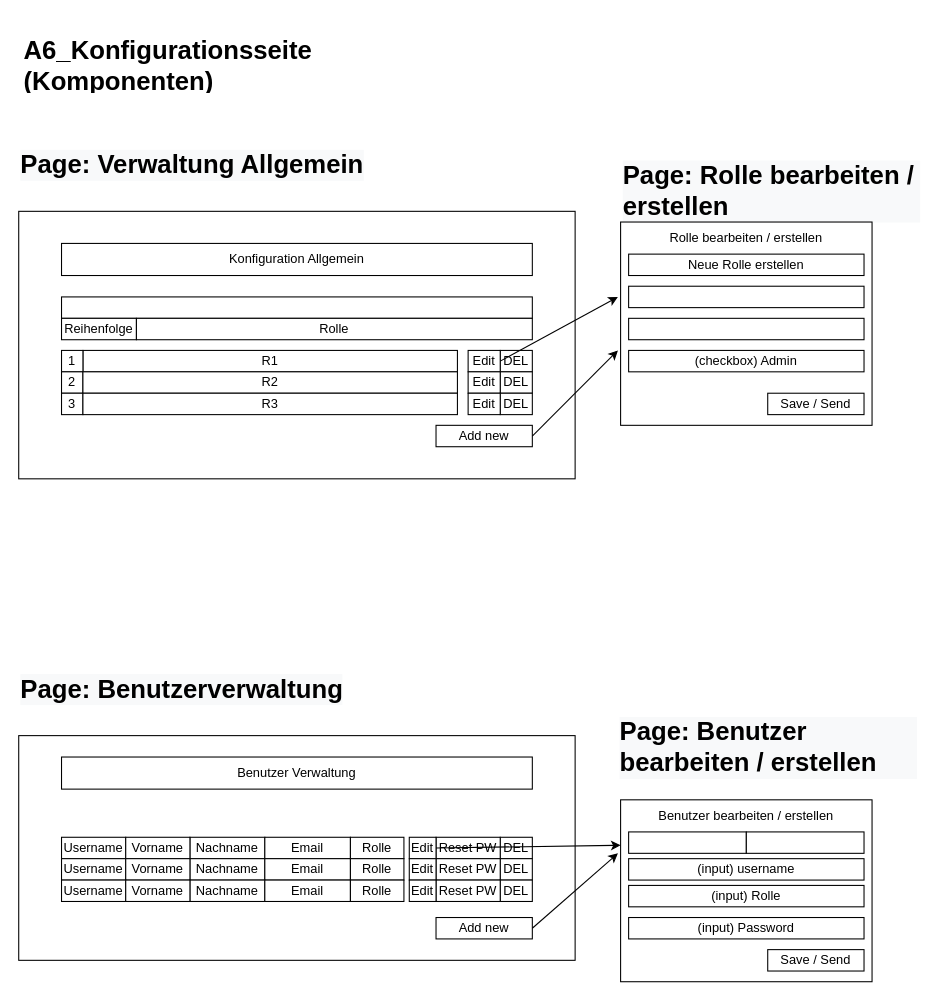
Image size: 938x1000. Some labels were removed from this diagram. The shapes that lost their labels are listed below. From the top down, each one's centre as x and y in pixels, then its label:
pixel 296 307: Verfügbare Rollen und Reihenfolge
pixel 746 296: (Input) Name der Rolle / String
pixel 746 328: (input) Berechtigungs-stufe - Dropdown
pixel 687 842: (input) Vorname
pixel 804 842: (input) Nachname
